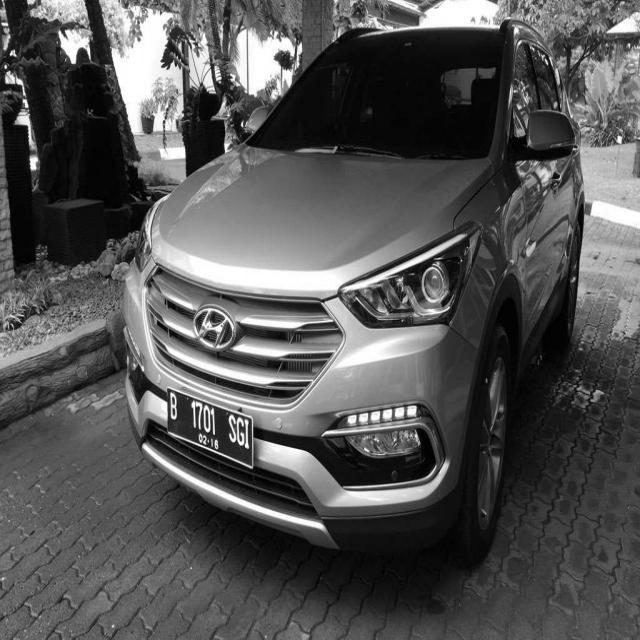0: (203, 404, 211, 434)
1: (190, 399, 196, 429), (212, 407, 216, 435)
7: (195, 402, 202, 430)
B: (160, 390, 182, 430)
G: (236, 417, 244, 445)
I: (244, 417, 250, 452)
S: (226, 414, 236, 446)
